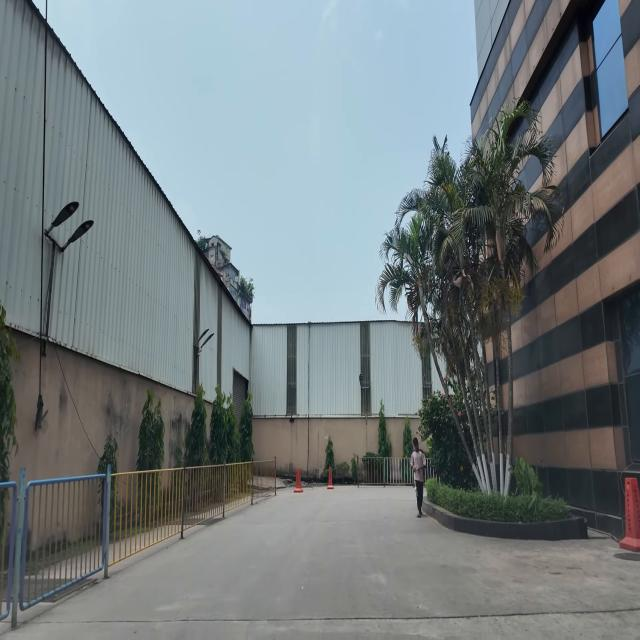person: (410, 437, 426, 518)
